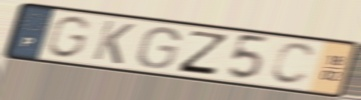5: (224, 32, 275, 84)
C: (268, 41, 319, 87)
G: (43, 14, 94, 60), (135, 26, 183, 70)
K: (90, 18, 138, 66)
Z: (175, 28, 231, 77)
